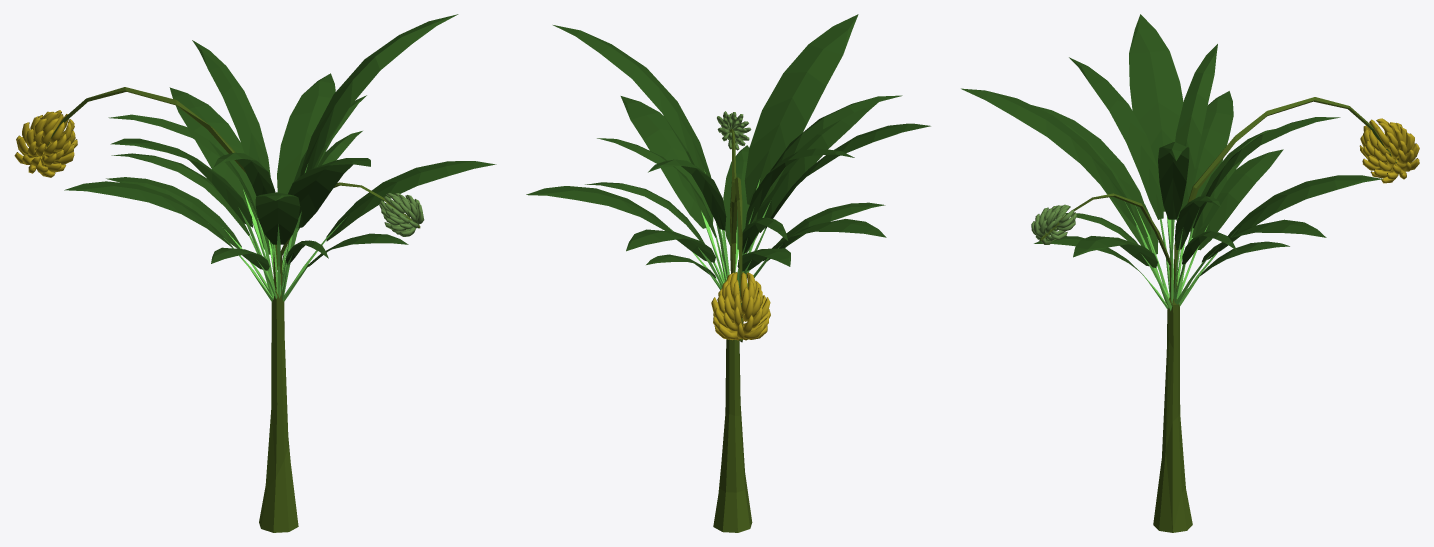
The model's file is SM_BananaTree_002_LOD4.fbx.
The picture shows the model from 3 angles, left to right: view 1: azimuth 30°, elevation 25°; view 2: azimuth 150°, elevation 25°; view 3: azimuth 270°, elevation 25°; orthographic projection. The views are drawn at different scales.
Visible parts, largest first — view 1: BananaTree; view 2: BananaTree; view 3: BananaTree.
Boxes of the visible parts, x1=… form: BananaTree: x1=14, y1=14, x2=496, y2=532; BananaTree: x1=526, y1=14, x2=930, y2=532; BananaTree: x1=961, y1=14, x2=1419, y2=532.
Bounding box in the file's own units: 337 × 407 × 377.
